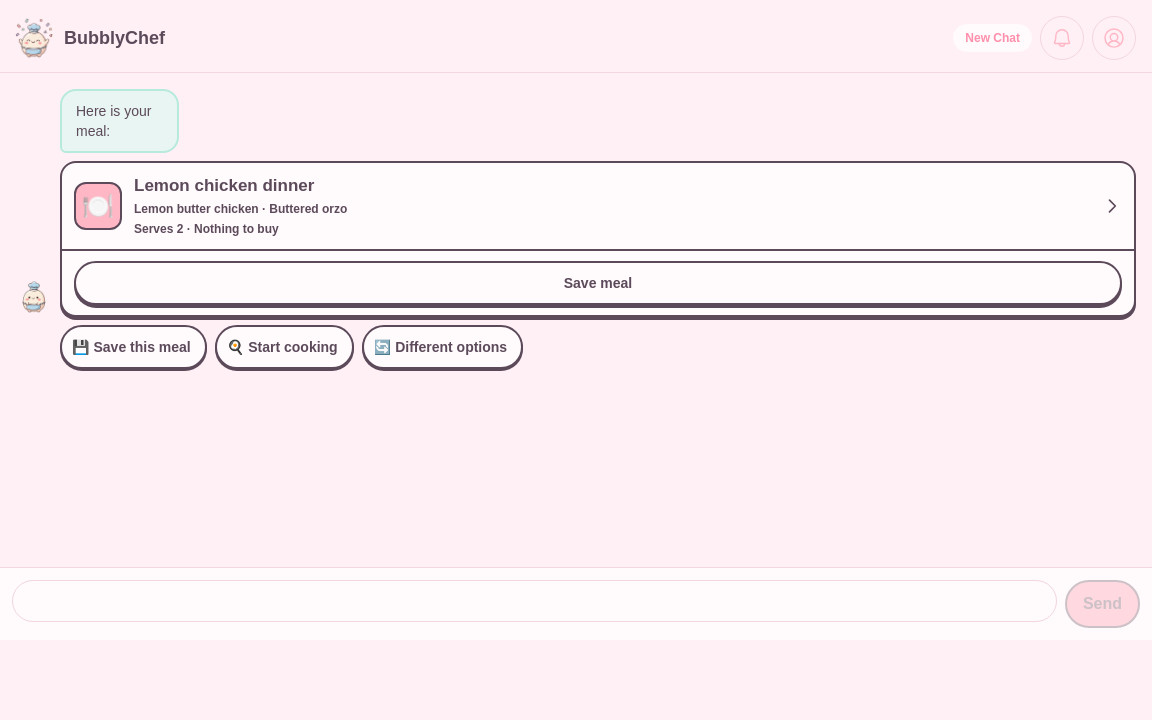
Test: compact meal card actions (issue #650) › Save meal after Open meal already created a draft promotes it instead of creating a second meal
Click the button with aria-label "Open meal". click: (98, 206)
box: [62,163,1134,249]
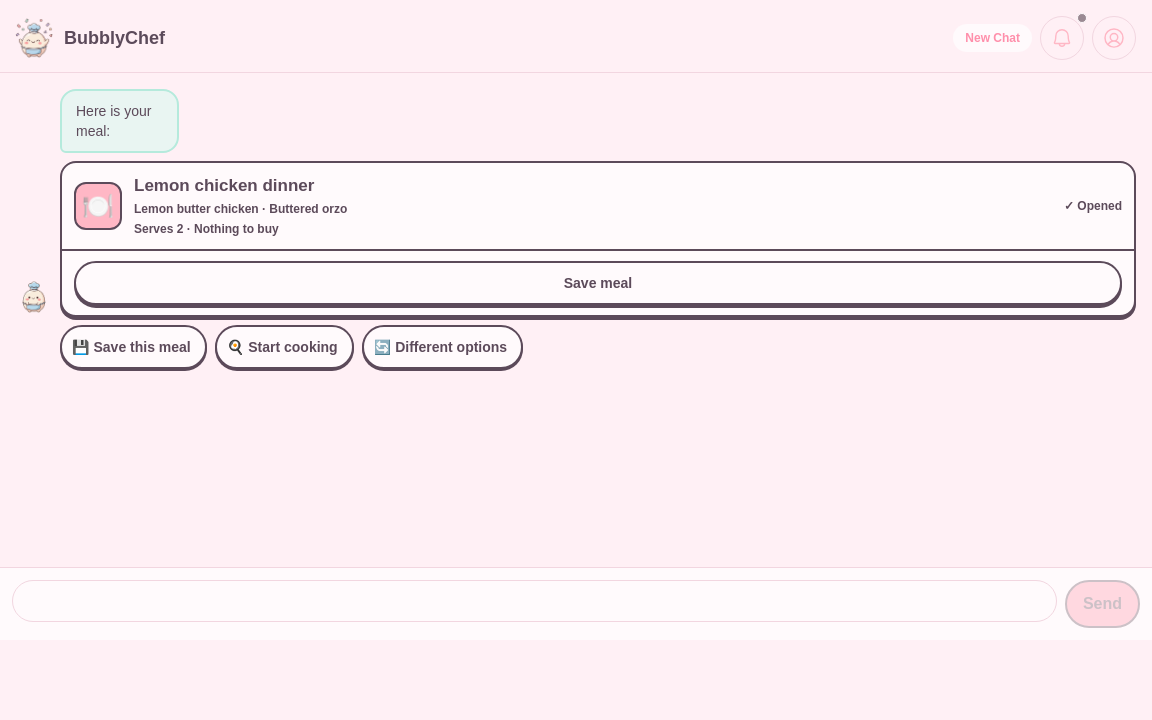
Click the button "Save meal". click: (598, 283)
box: [74,261,1122,305]
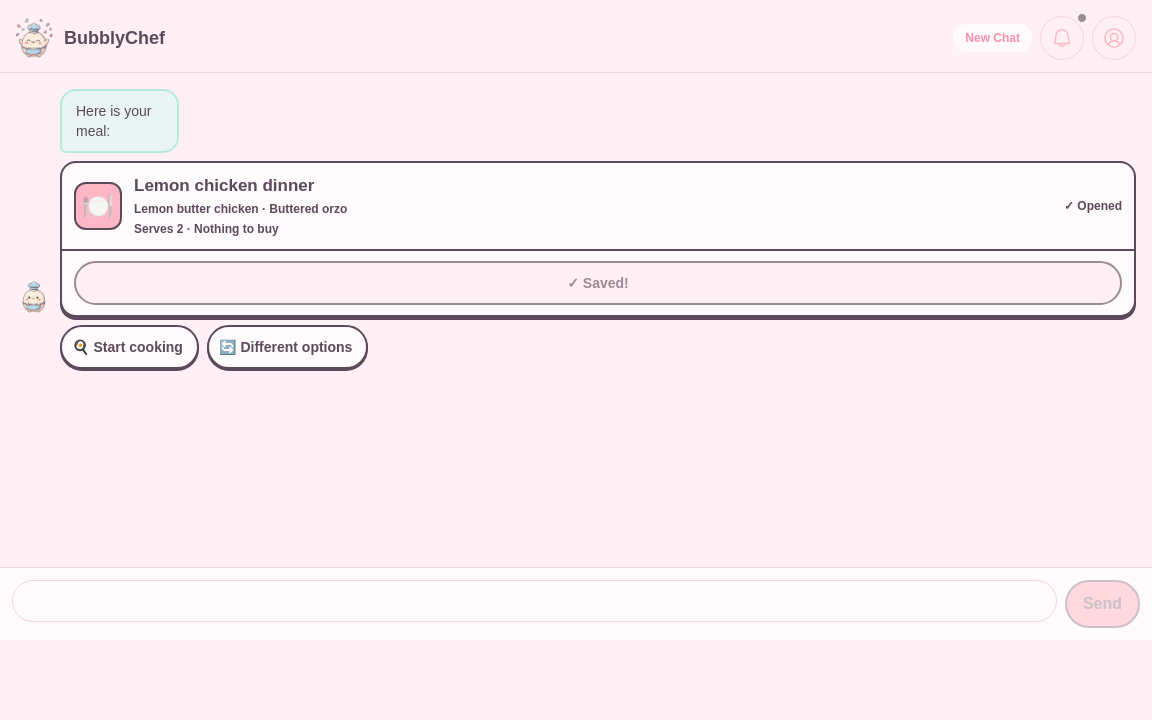
Check: the button "✓ Saved!" is shown, box [74,261,1122,305]
